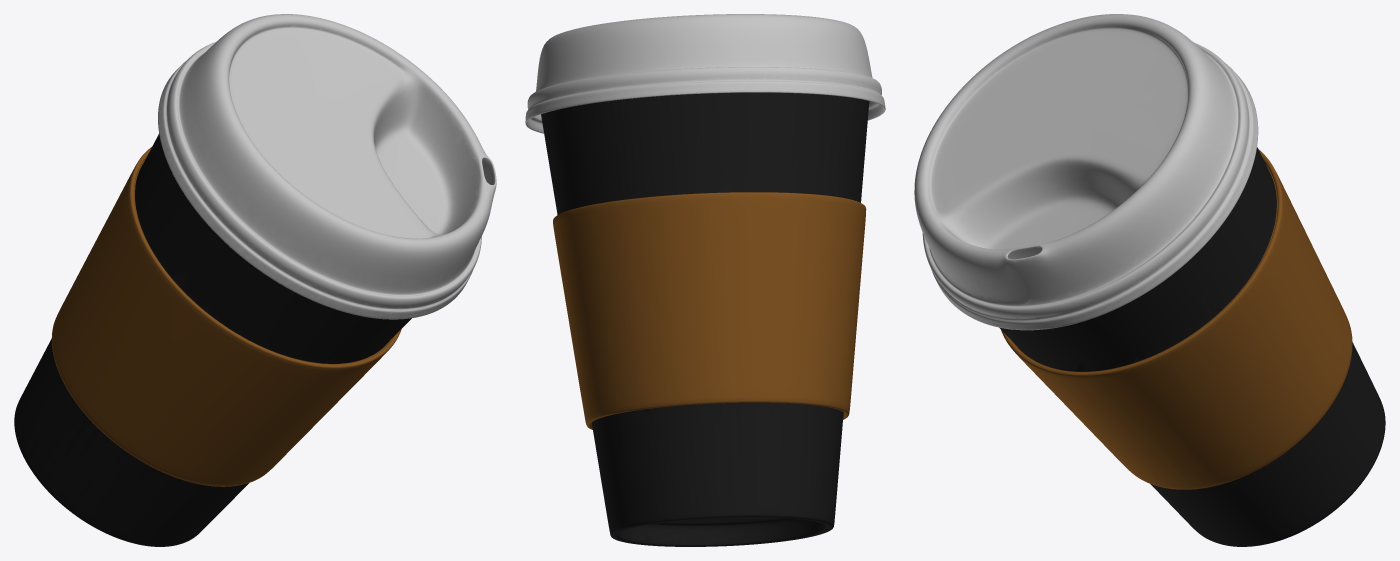
Rendered from coffee-cup.glb.
The picture shows the model from 3 angles, left to right: view 1: azimuth 30°, elevation 25°; view 2: azimuth 150°, elevation 25°; view 3: azimuth 270°, elevation 25°; orthographic projection.
Visible parts, largest first — view 1: Object_8, Object_6, Object_5; view 2: Object_5, Object_6, Object_8; view 3: Object_8, Object_6, Object_5.
Boxes of the visible parts, box(x1,y1,x2,y2) form: Object_8: box(158, 14, 496, 319); Object_6: box(51, 147, 401, 486); Object_5: box(14, 133, 411, 546); Object_5: box(541, 92, 869, 546); Object_6: box(553, 192, 866, 429); Object_8: box(525, 14, 885, 133); Object_8: box(914, 14, 1258, 330); Object_6: box(1001, 149, 1352, 489); Object_5: box(999, 147, 1385, 546).
Bounding box in the file's own units: 0.9588 × 1.32 × 1.09.
